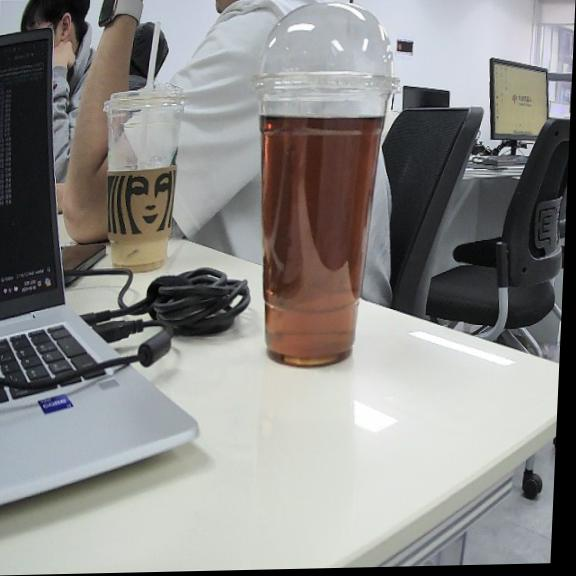Plastik: (254, 4, 399, 365)
